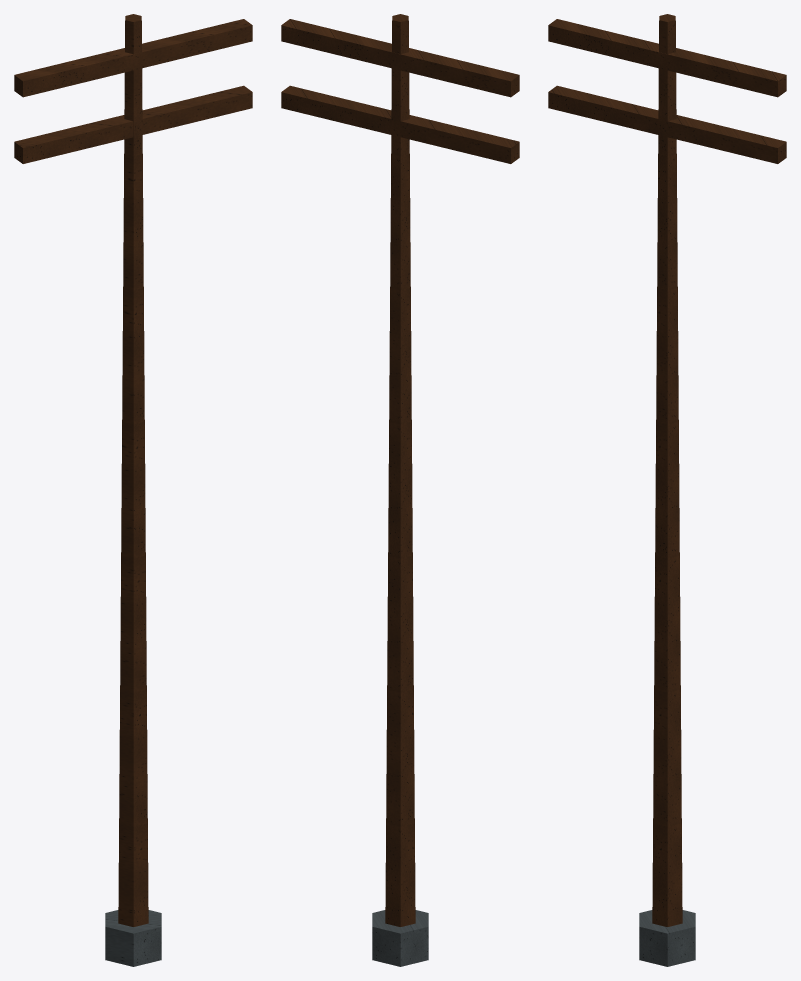
The model's file is PROP-FF927E45F8D0_lod2.glb.
3 renders of one model, left to right at view 1: azimuth 30°, elevation 25°; view 2: azimuth 150°, elevation 25°; view 3: azimuth 330°, elevation 25°, orthographic.
Parts seen in each view (by area): view 1: pole.006, pole_crossarm.002, pole_base.006; view 2: pole.006, pole_crossarm.002, pole_base.006; view 3: pole.006, pole_crossarm.002, pole_base.006.
Part boxes in pixels (x1,y1,x2,y2): pole.006: [118, 14, 148, 926]; pole_crossarm.002: [14, 19, 252, 163]; pole_base.006: [105, 910, 161, 966]; pole.006: [385, 14, 415, 926]; pole_crossarm.002: [281, 19, 519, 163]; pole_base.006: [372, 910, 428, 966]; pole.006: [652, 14, 682, 926]; pole_crossarm.002: [548, 19, 786, 163]; pole_base.006: [639, 910, 695, 966].
Size of the model in its own units: 1.8 by 7 by 0.3811.
2 materials, 2 textured.
